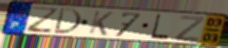7: (114, 11, 143, 38)
D: (52, 7, 83, 35)
K: (88, 10, 115, 37)
L: (149, 13, 170, 41)
Z: (26, 6, 61, 34), (173, 15, 207, 42)
